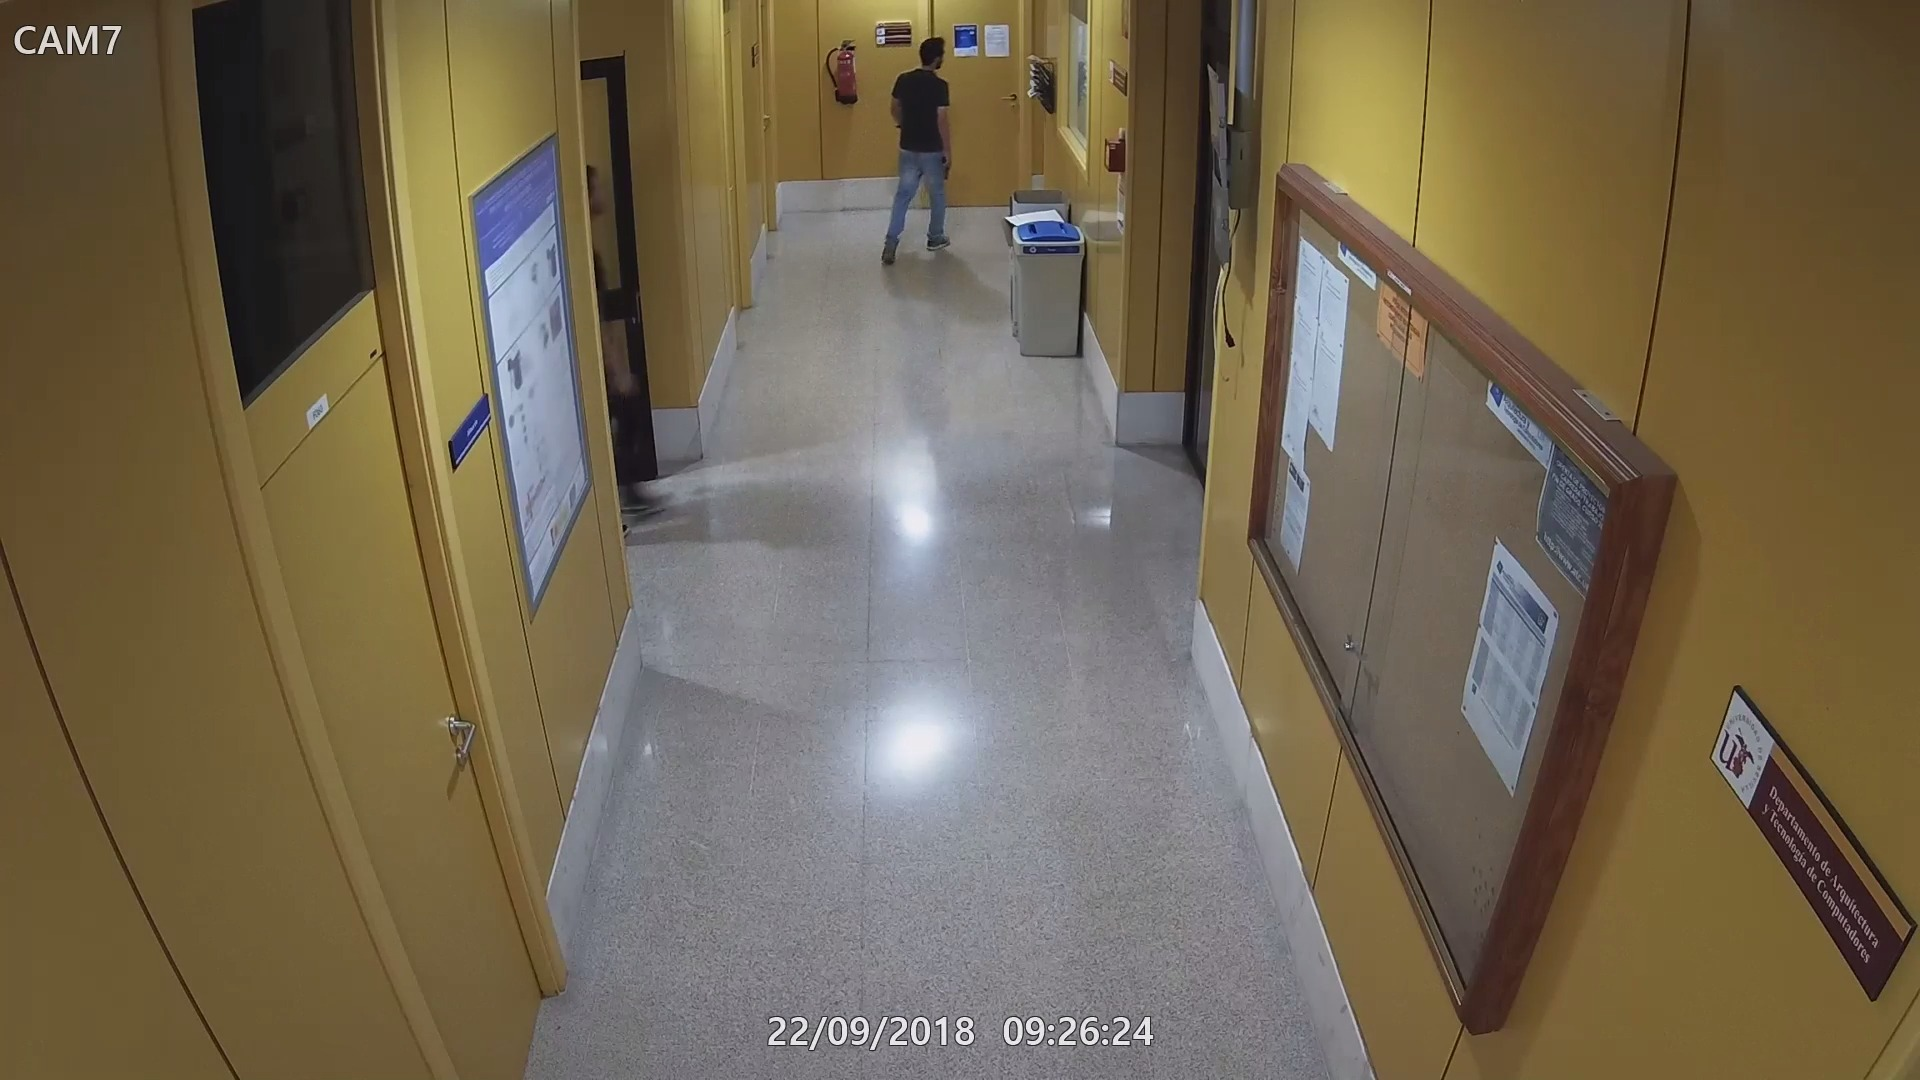Handgun: (934, 152, 961, 181)
